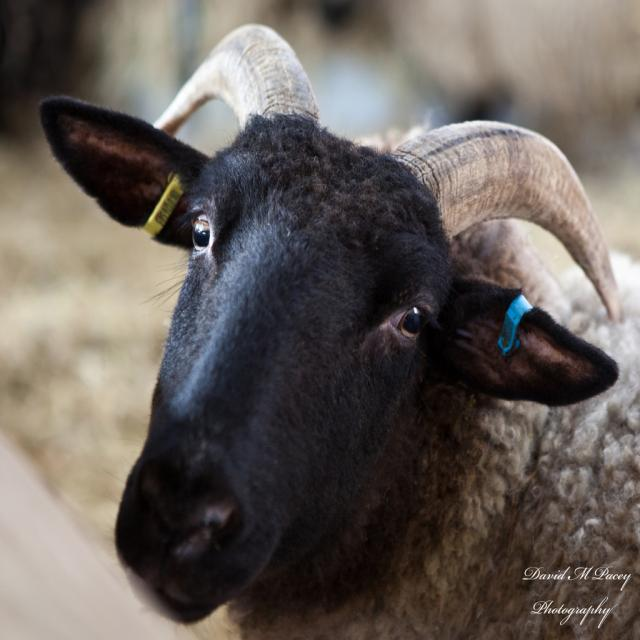Sheep: (40, 23, 640, 640)
